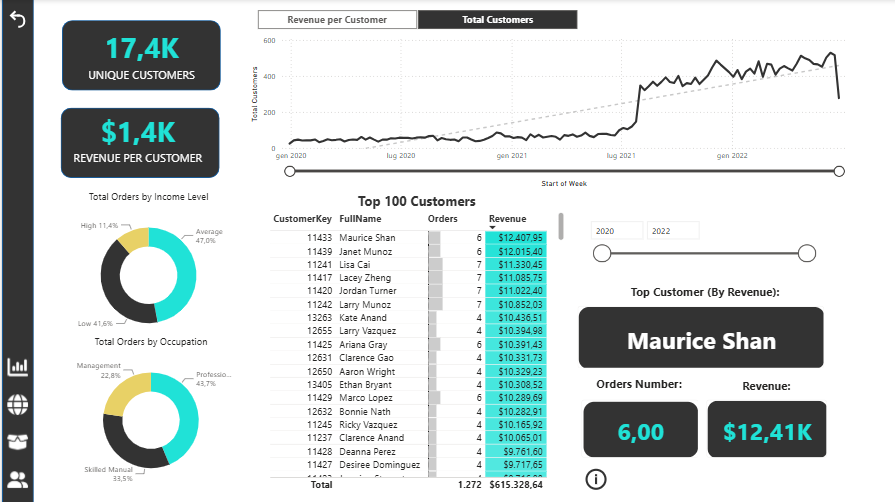

The page's visual inventory and layout, read from the dashboard file:
{"tool":"powerbi","page":{"name":"Customer Detail","canvas":[1280,720],"ordinal":3},"visuals":[{"type":"shape","title":"Left Nav Background","box":[0,0,45,720],"z":0},{"type":"card","fields":{"Values":["Mesure Table.Total Customers"]},"box":[88.6,11.4,220,136],"z":0,"group":"g2"},{"type":"shape","box":[86,30,226,100],"z":0,"group":"g1"},{"type":"card","fields":{"Values":["Mesure Table.Average Revenue per Customer"]},"box":[83.3,130,220,136],"z":0,"group":"g3"},{"type":"group","id":"g1","title":"KPI Backgrounds","box":[83.6,30,228.4,224.8],"z":1000},{"type":"shape","box":[83.6,154.8,226,100],"z":1000,"group":"g1"},{"type":"group","id":"g2","title":"KPI cards","box":[88.6,11.4,220,136],"z":2000},{"type":"lineChart","title":"Customer Trending","fields":{"Category":["Calendar Lookup.Date Hierarchy.Start of Year","Calendar Lookup.Date Hierarchy.Start of Quarter","Calendar Lookup.Date Hierarchy.Start of Month","Calendar Lookup.Date Hierarchy.Start of Week","Calendar Lookup.Date Hierarchy.Date"],"Y":["Mesure Table.Total Customers"]},"box":[348.8,45,870,228.8],"z":3000},{"type":"donutChart","fields":{"Category":["Customer Lookup.Income Level"],"Y":["Mesure Table.Total Orders"]},"box":[87.9,271.7,243.3,225],"z":4000},{"type":"donutChart","fields":{"Category":["Customer Lookup.Occupation"],"Y":["Mesure Table.Total Orders"]},"box":[90.4,478.3,243,225],"z":5000},{"type":"tableEx","title":"Top 100 Customers","fields":{"Values":["Customer Lookup.CustomerKey","Customer Lookup.FullName","Mesure Table.Total Orders","Mesure Table.Total Revenue"]},"box":[376.2,273.8,430,430],"z":6000},{"type":"cardVisual","fields":{"Data":["Mesure Table.Full Name (Customer Detail)"]},"box":[803.4,419.4,385.2,123.5],"z":7000},{"type":"cardVisual","fields":{"Data":["Mesure Table.Total Orders (Customer Detail)"]},"box":[808,553.5,201.1,117.5],"z":8000},{"type":"textbox","box":[842.8,400.8,315,36.2],"z":9000},{"type":"cardVisual","fields":{"Data":["Mesure Table.Total Revenue (Customer Detail)"]},"box":[986,553.5,206.5,117.5],"z":10000},{"type":"textbox","box":[831.5,532,152.5,36.2],"z":11000},{"type":"textbox","box":[1009,534.5,158.8,36.2],"z":12000},{"type":"slicer","fields":{"Values":["Calendar Lookup.Year"]},"box":[826.2,305.3,341.2,75],"z":13000},{"type":"group","id":"g3","title":"KPI cards","box":[83.3,130,220,136.7],"z":14000},{"type":"actionButton","box":[826.2,663.8,100,40],"z":15000},{"type":"actionButton","box":[6,10,34,35],"z":16000},{"type":"actionButton","box":[3.8,505,45,37.5],"z":17000},{"type":"actionButton","box":[3.8,558.3,45,37.5],"z":18000},{"type":"actionButton","box":[3.8,665,45,37.5],"z":19000},{"type":"actionButton","box":[3.8,611.7,45,37.5],"z":20000},{"type":"slicer","fields":{"Values":["Customer Metric Selection.Customer Metric Selection"]},"box":[338.8,8.8,505,36.2],"z":21000}]}

Visuals, with their boxes on the page's 1280x720 design canvas (x1, y1, x2, y2). These are canvas units, not pixel positions in the 895x502 screenshot, which may show the page scaled, cropped or inside an application window:
"Left Nav Background" shape: rect(0, 0, 45, 720)
card - Mesure Table.Total Customers: rect(89, 11, 309, 147)
shape: rect(86, 30, 312, 130)
card - Mesure Table.Average Revenue per Customer: rect(83, 130, 303, 266)
"KPI Backgrounds" group: rect(84, 30, 312, 255)
shape: rect(84, 155, 310, 255)
"KPI cards" group: rect(89, 11, 309, 147)
"Customer Trending" lineChart: rect(349, 45, 1219, 274)
donutChart - Customer Lookup.Income Level x Mesure Table.Total Orders: rect(88, 272, 331, 497)
donutChart - Customer Lookup.Occupation x Mesure Table.Total Orders: rect(90, 478, 333, 703)
"Top 100 Customers" tableEx: rect(376, 274, 806, 704)
cardVisual - Mesure Table.Full Name (Customer Detail): rect(803, 419, 1189, 543)
cardVisual - Mesure Table.Total Orders (Customer Detail): rect(808, 554, 1009, 671)
textbox: rect(843, 401, 1158, 437)
cardVisual - Mesure Table.Total Revenue (Customer Detail): rect(986, 554, 1192, 671)
textbox: rect(832, 532, 984, 568)
textbox: rect(1009, 534, 1168, 571)
slicer - Calendar Lookup.Year: rect(826, 305, 1167, 380)
"KPI cards" group: rect(83, 130, 303, 267)
actionButton: rect(826, 664, 926, 704)
actionButton: rect(6, 10, 40, 45)
actionButton: rect(4, 505, 49, 542)
actionButton: rect(4, 558, 49, 596)
actionButton: rect(4, 665, 49, 702)
actionButton: rect(4, 612, 49, 649)
slicer - Customer Metric Selection.Customer Metric Selection: rect(339, 9, 844, 45)
